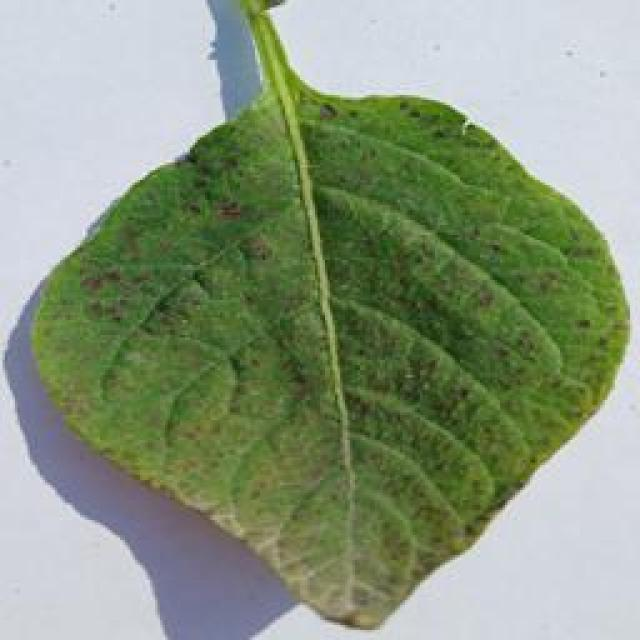Potato_Early_Blight: (15, 75, 640, 617)
